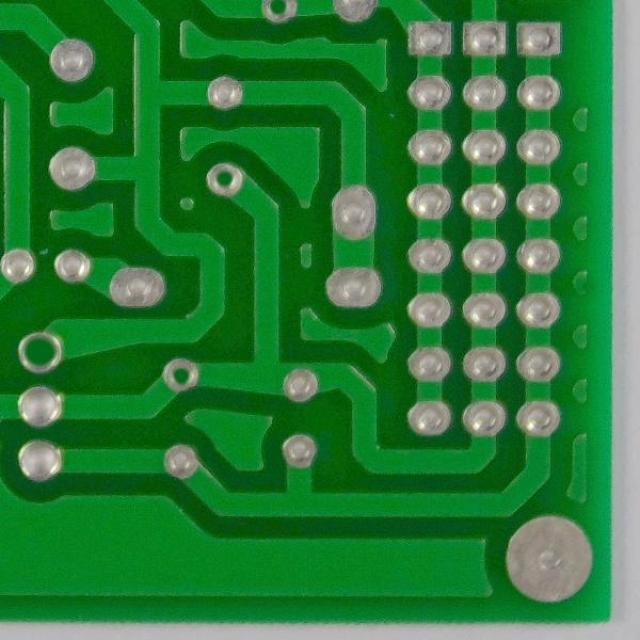Missing_Hole: (12, 328, 68, 376), (156, 355, 202, 396), (202, 160, 248, 199), (259, 0, 300, 26)
